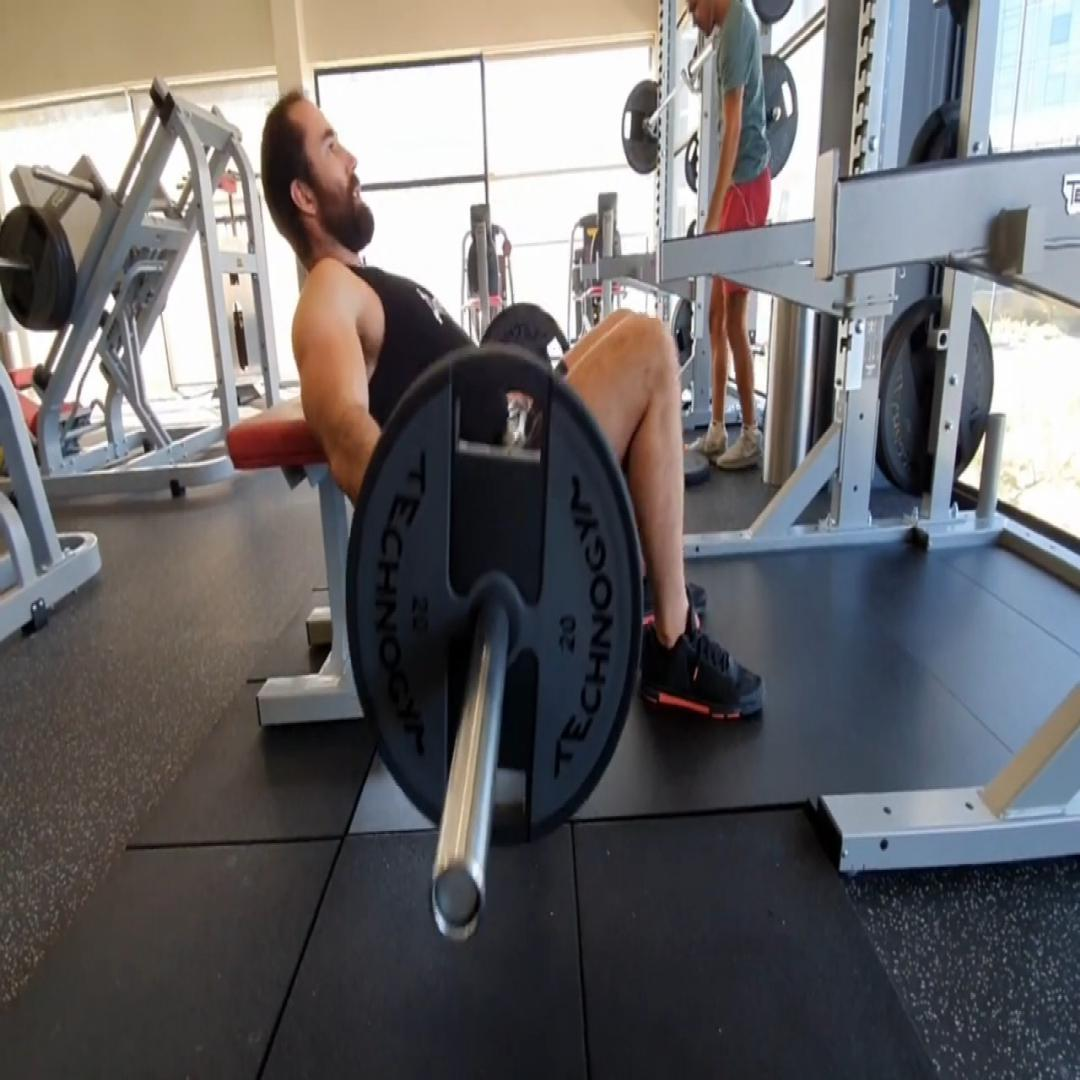Bar: (429, 856, 486, 942)
Barbell: (344, 348, 642, 850)
